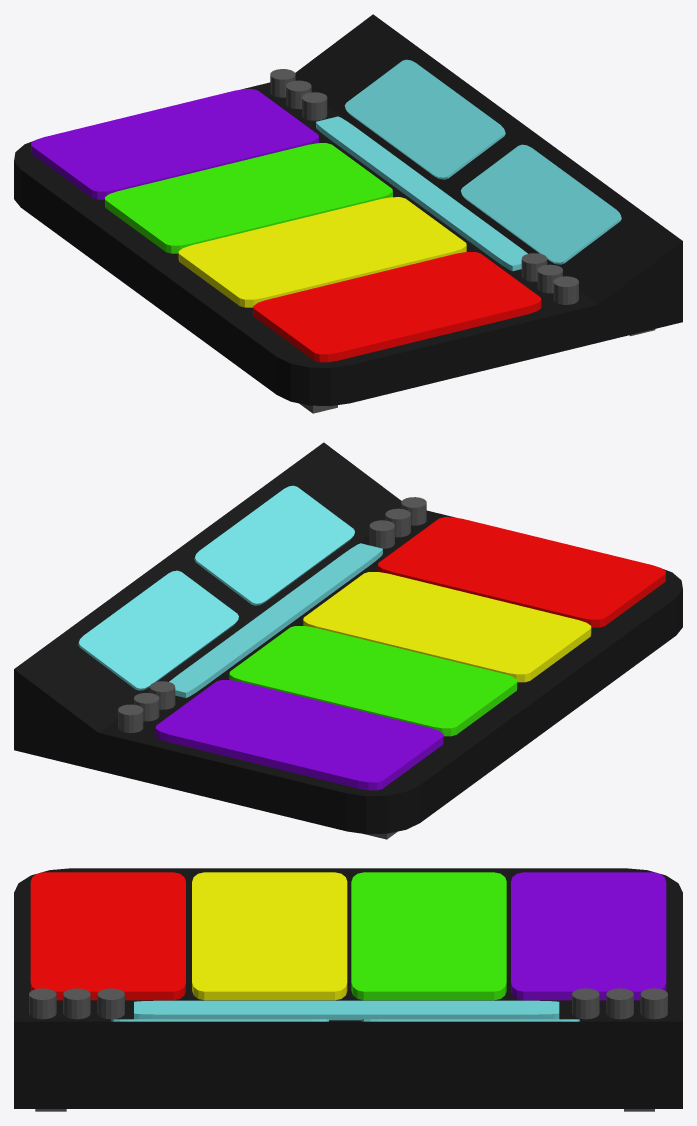
File: DJ_pult.fbx
3 views of the same model, one above another, from view 1: azimuth 30°, elevation 25°; view 2: azimuth 150°, elevation 25°; view 3: azimuth 270°, elevation 25° (orthographic). The views are drawn at different scales.
Visible parts, largest first — view 1: Cube; view 2: Cube; view 3: Cube.
Boxes of the visible parts, x1,y1,x2,y2 form: Cube: [14, 14, 682, 413]; Cube: [14, 442, 682, 839]; Cube: [14, 868, 682, 1111].
Bounding box in the file's own units: 276 × 64.06 × 391.
